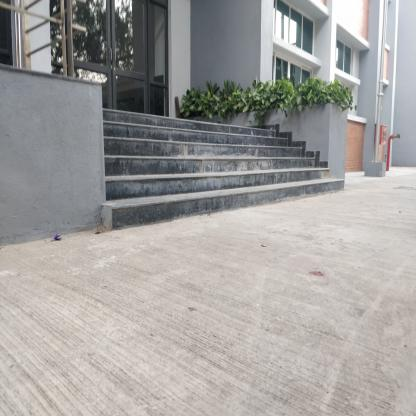stairs: (109, 133, 314, 223)
